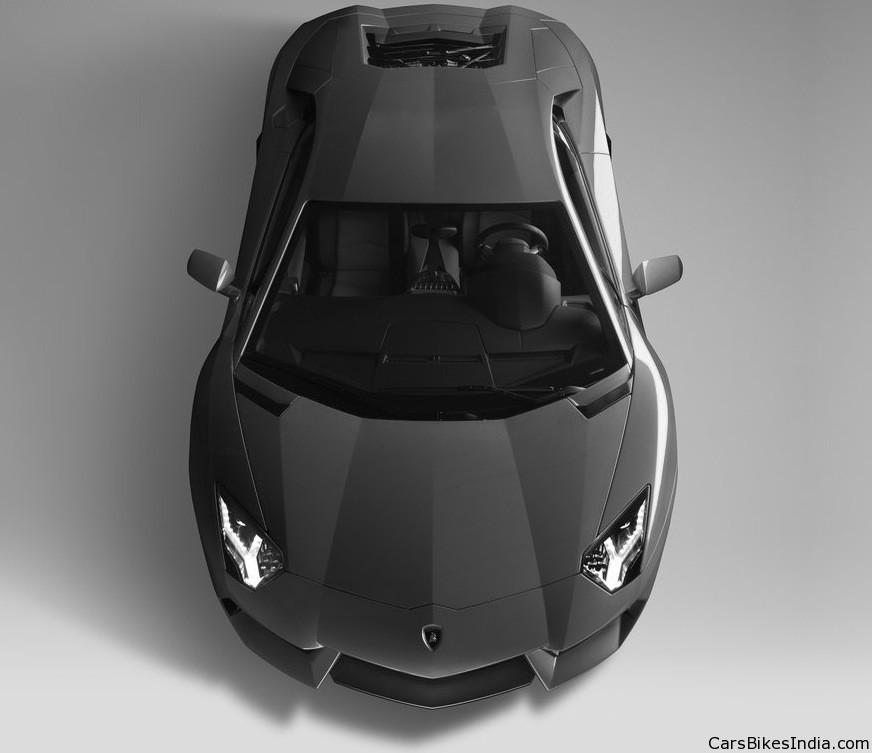car: (187, 9, 688, 713)
